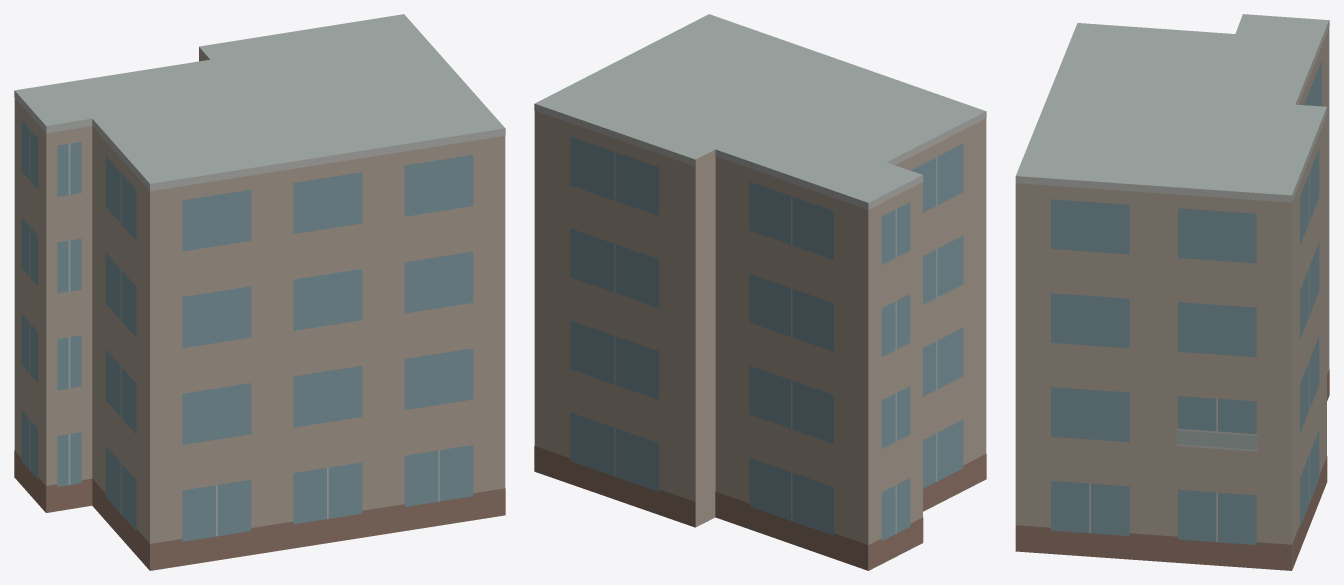
The model's file is survey-upis-32709475.glb.
3 views of the same model, side by side, from view 1: azimuth 30°, elevation 25°; view 2: azimuth 150°, elevation 25°; view 3: azimuth 270°, elevation 25° (orthographic). The views are drawn at different scales.
Visible parts, largest first — view 1: survey-upis-32709475.tmp; view 2: survey-upis-32709475.tmp; view 3: survey-upis-32709475.tmp.
Boxes of the visible parts, x1,y1,x2,y2 form: survey-upis-32709475.tmp: (14, 14, 505, 570); survey-upis-32709475.tmp: (534, 14, 986, 570); survey-upis-32709475.tmp: (1015, 14, 1329, 570).
Bounding box in the file's own units: 13.28 × 12.8 × 9.7.
